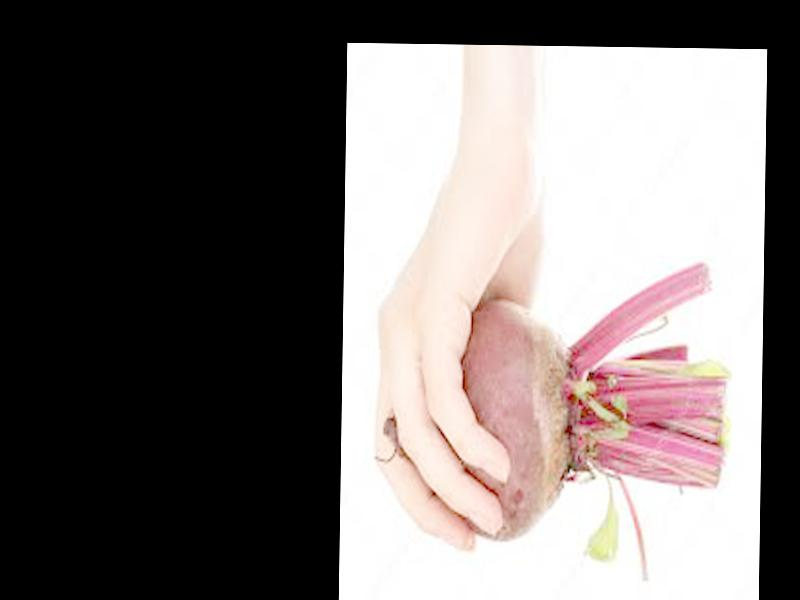Beet: (378, 258, 731, 581)
